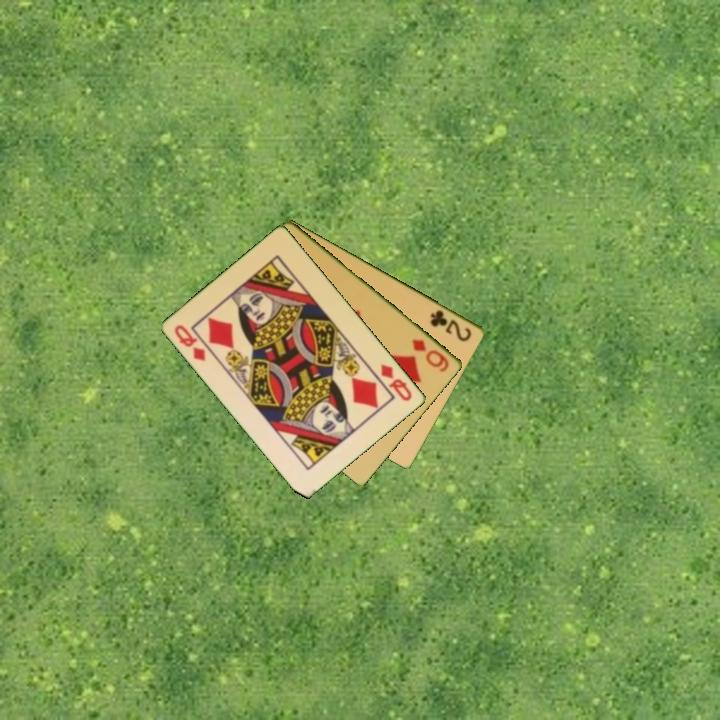2c: (427, 306, 475, 344)
6d: (409, 335, 452, 375)
Qd: (377, 361, 415, 404), (171, 321, 209, 364)
